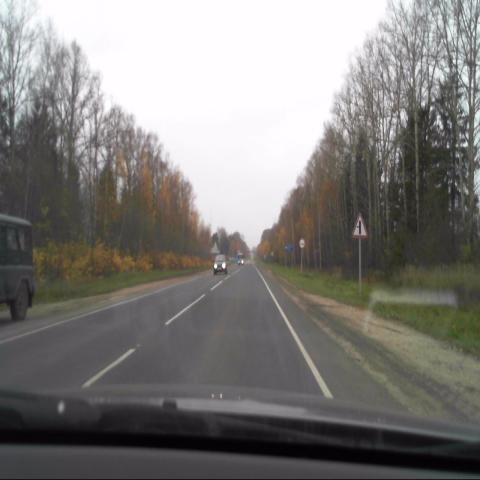2_3_3: (351, 212, 367, 237)
